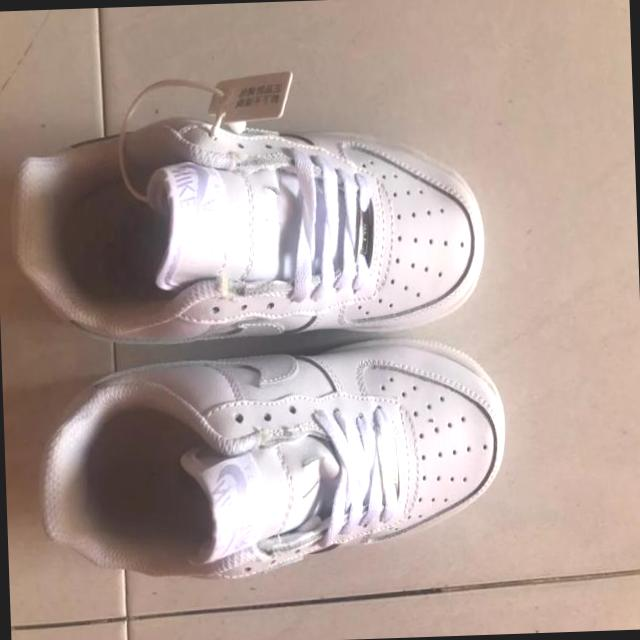nike_fake_airforce: (36, 330, 514, 594), (4, 112, 488, 352)
